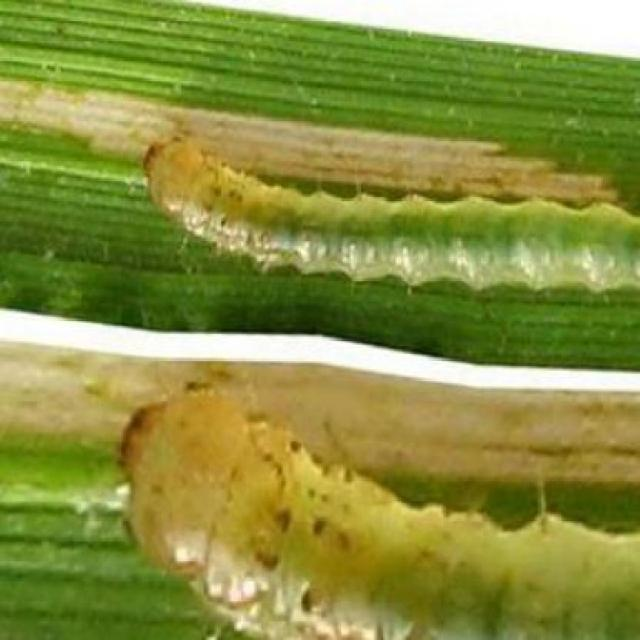leaf-folder: (115, 374, 640, 640), (137, 114, 640, 311)
